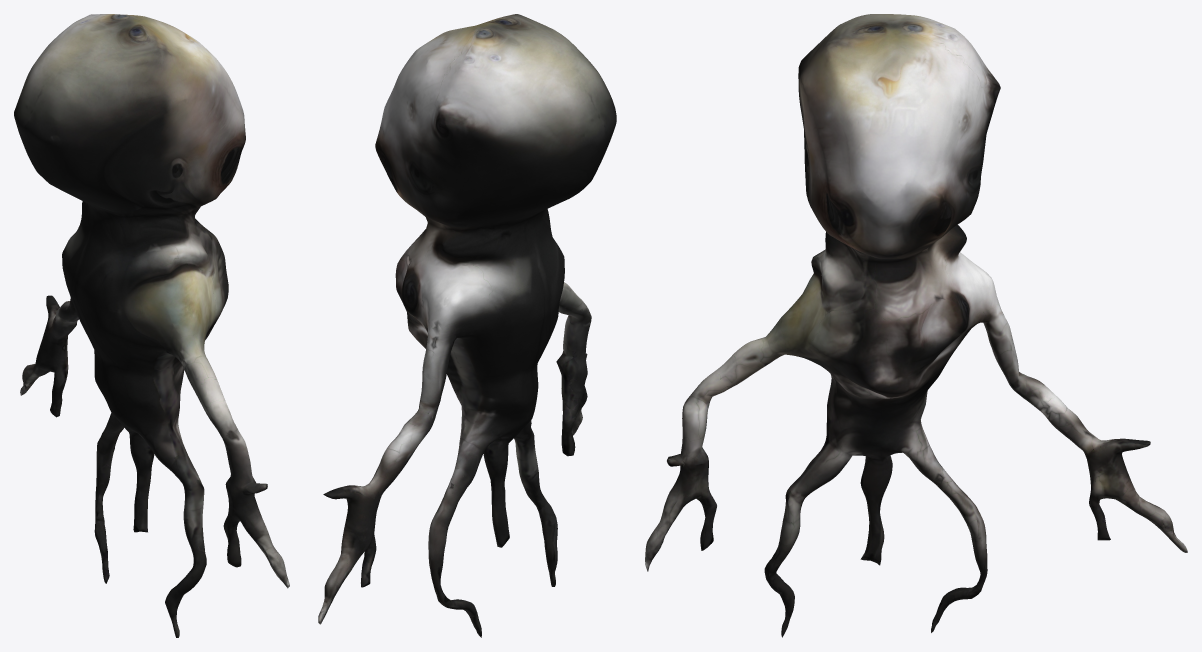
The model's file is bicho.glb.
3 renders of one model, left to right at view 1: azimuth 30°, elevation 25°; view 2: azimuth 150°, elevation 25°; view 3: azimuth 270°, elevation 25°, orthographic. The views are drawn at different scales.
Visible parts, largest first — view 1: Mesh_0.004; view 2: Mesh_0.004; view 3: Mesh_0.004.
Boxes of the visible parts, left/top/right/bottom form: Mesh_0.004: left=14, top=14, right=289, bottom=637; Mesh_0.004: left=318, top=14, right=616, bottom=637; Mesh_0.004: left=645, top=14, right=1187, bottom=637.
Size of the model in its own units: 0.5686 by 1.5 by 1.2.
Materials: 1 (1 with a texture image).
